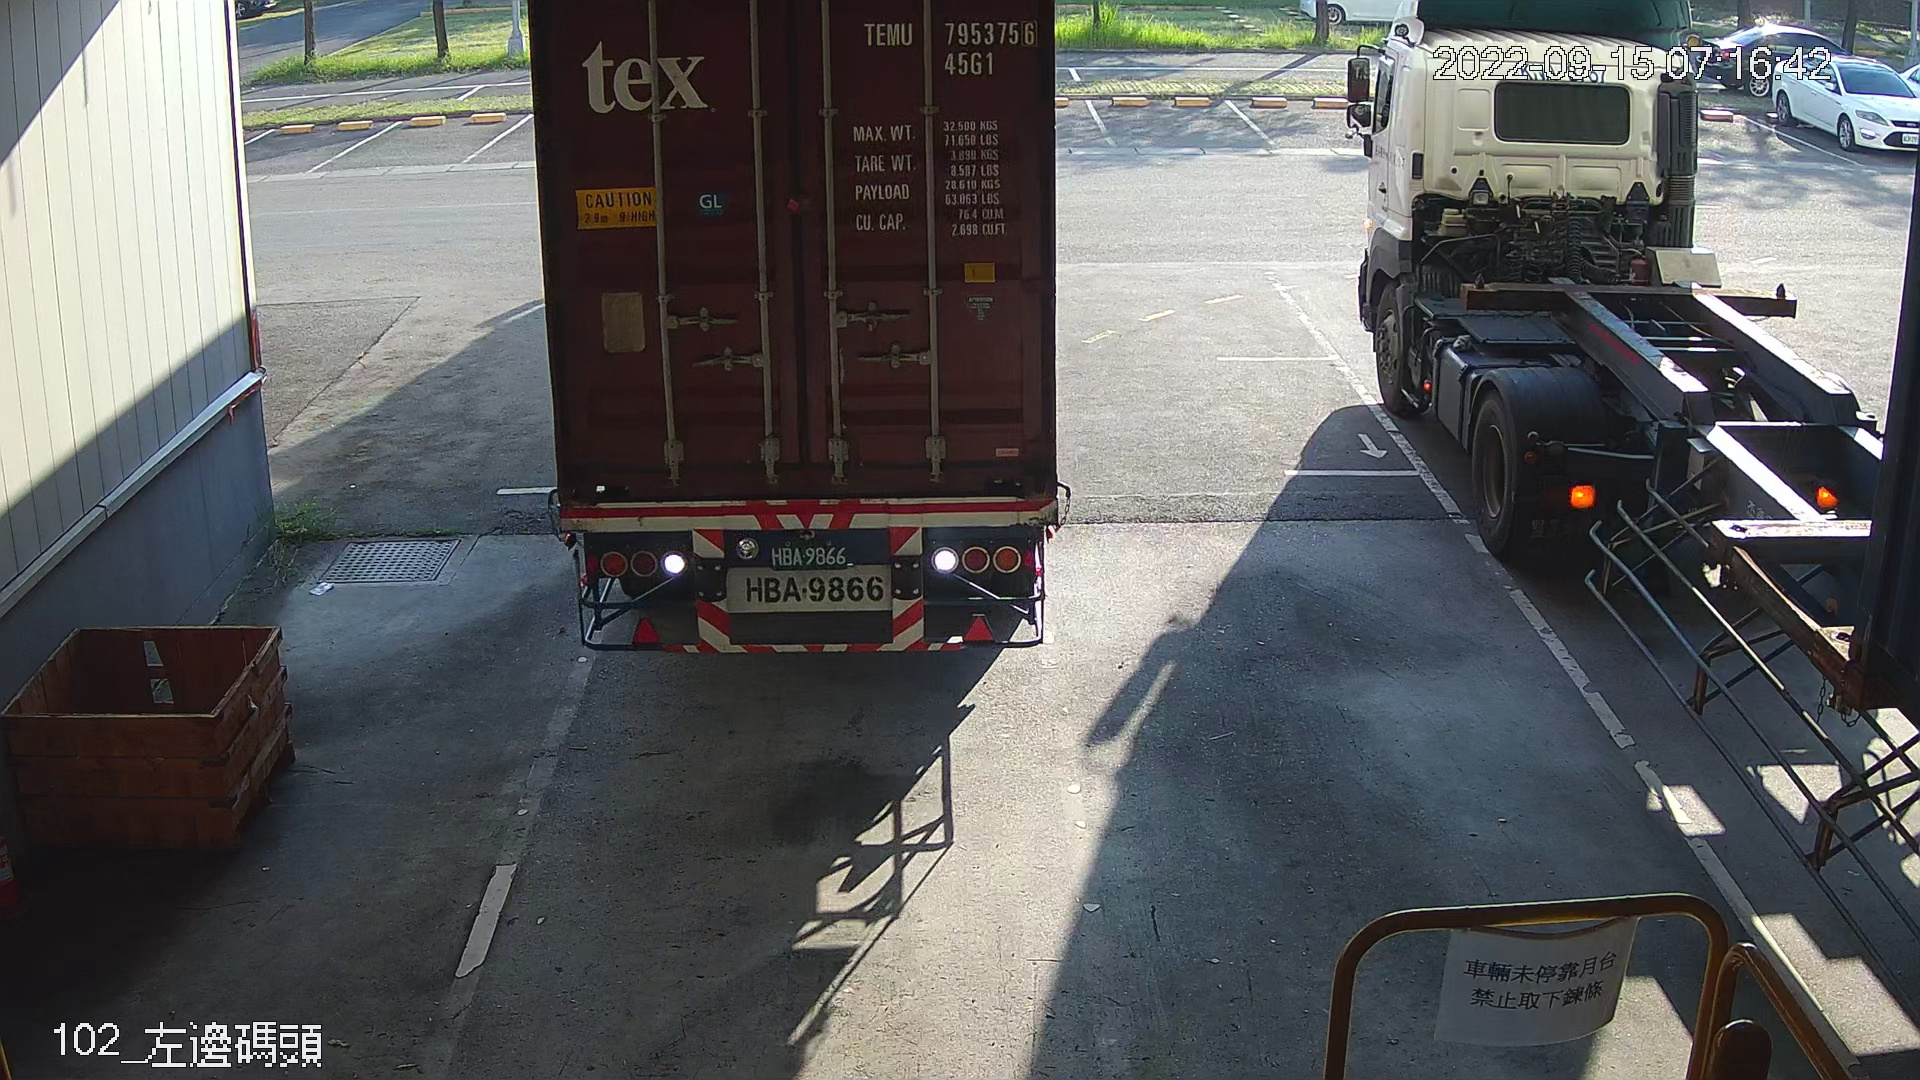container: (844, 11, 1047, 82)
